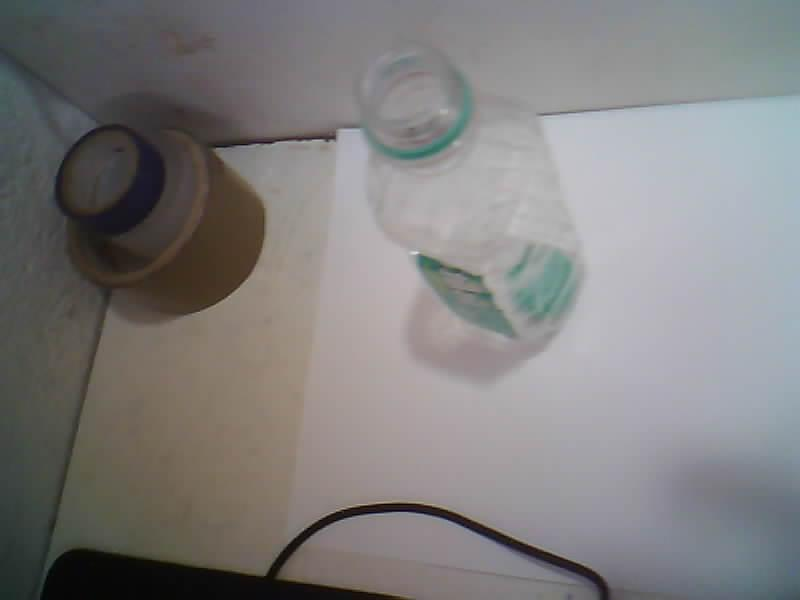non-biodegradable: (357, 43, 584, 346)
